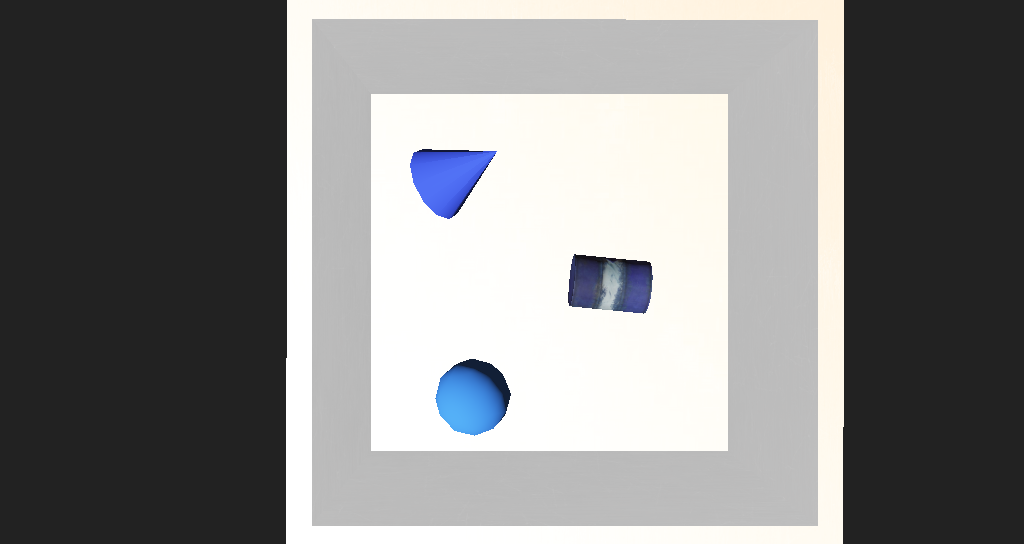cone: (522, 260, 596, 293)
cylinder: (374, 172, 488, 239)
sphere: (414, 322, 475, 365)
